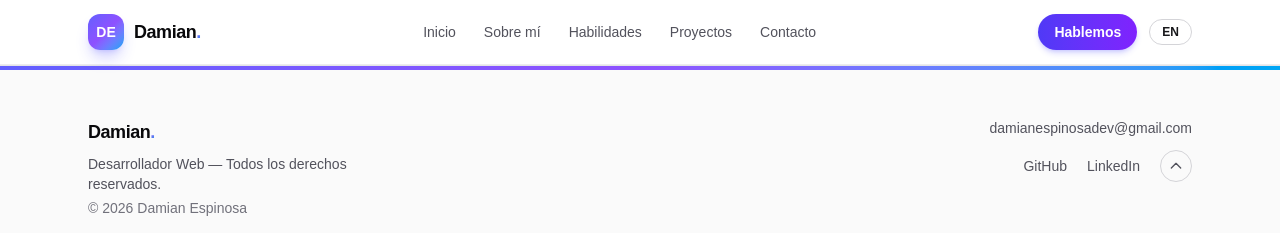
Test case: Footer › cambia el contenido al alternar idioma
The width and height of the screenshot is (1280, 233).
Step 1. Click the button with aria-label "Cambiar a inglés" → x=1171, y=32, box [1149,19,1192,45]
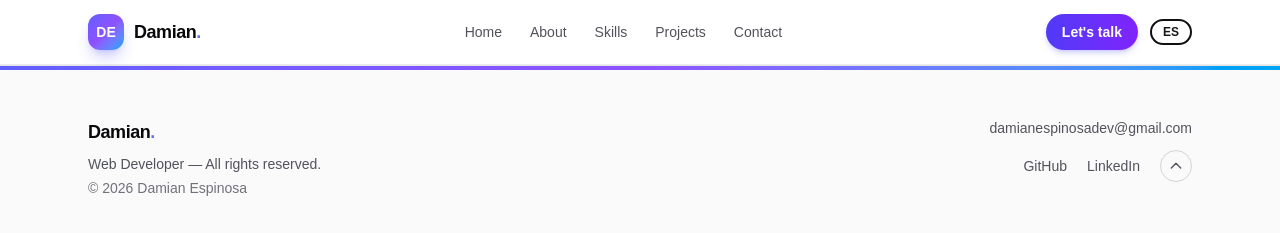
Expected: the text "Web Developer — All rights reserved." is shown, [88,154,321,174]
